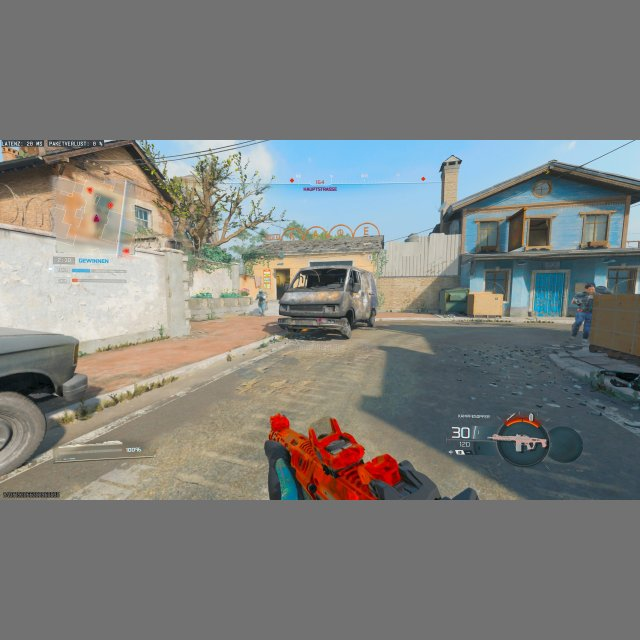head: (585, 284, 595, 293)
player: (569, 283, 595, 340), (256, 289, 267, 316)
